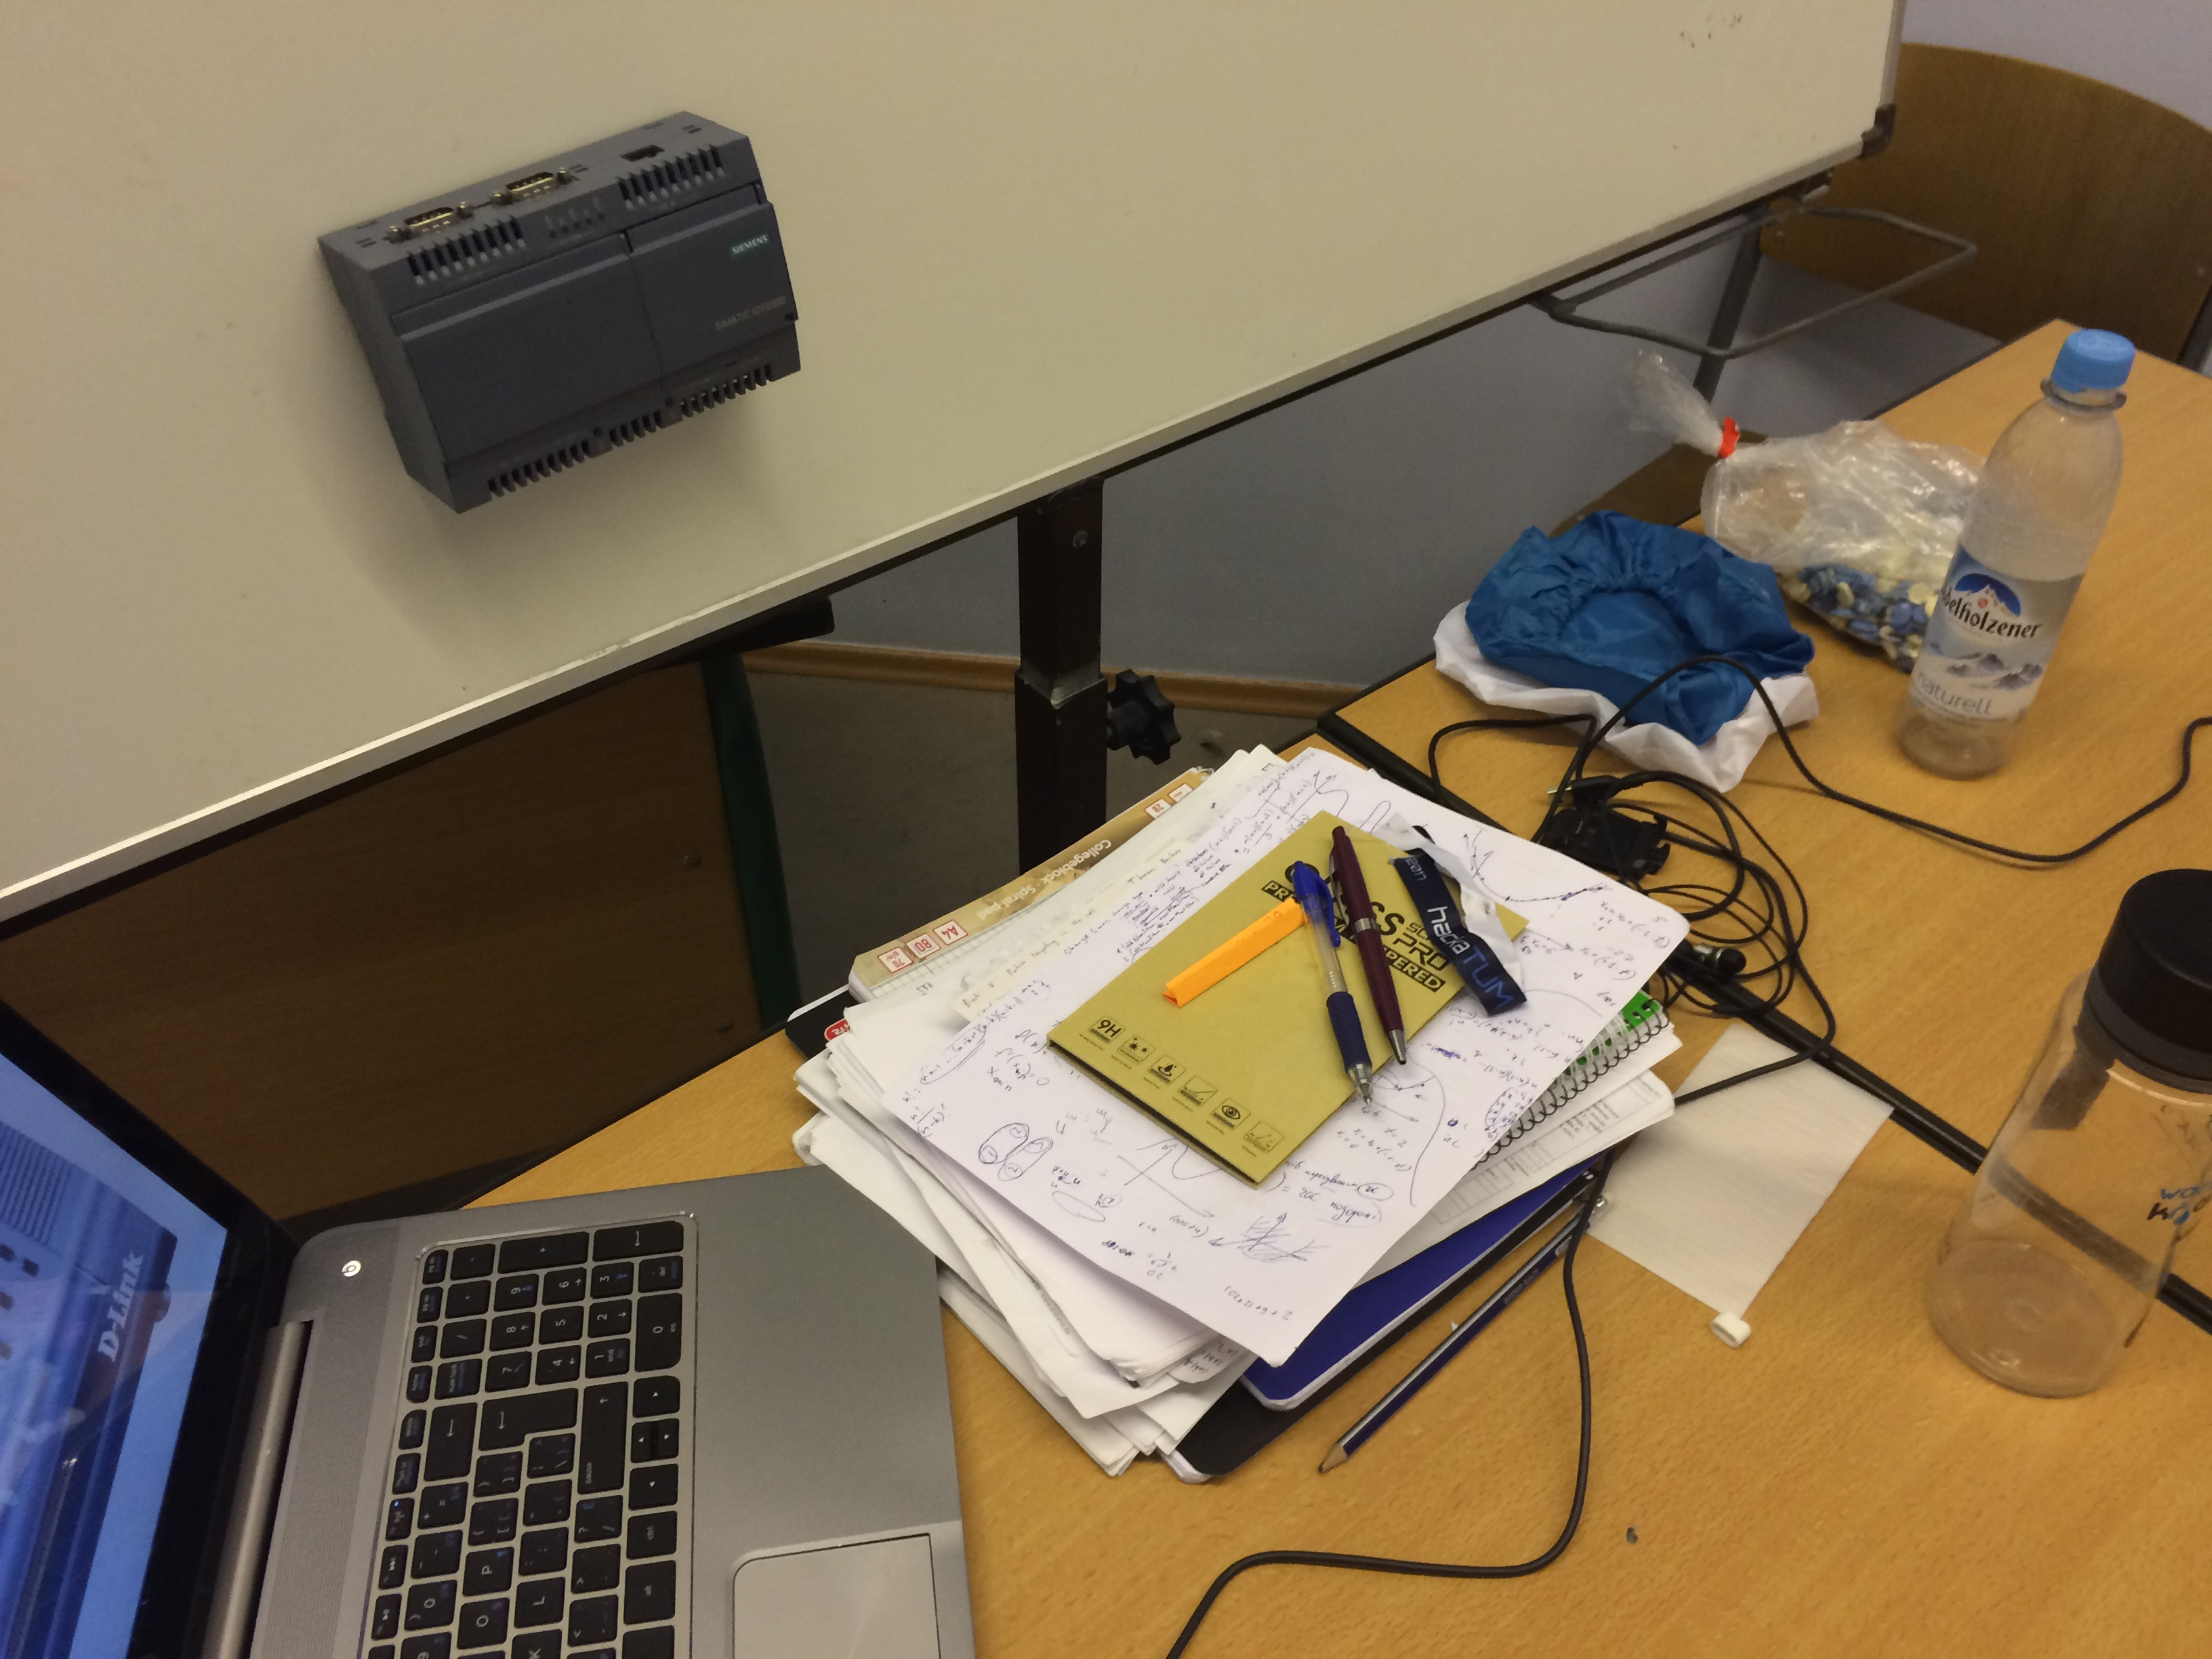iot2000: (315, 110, 806, 516)
